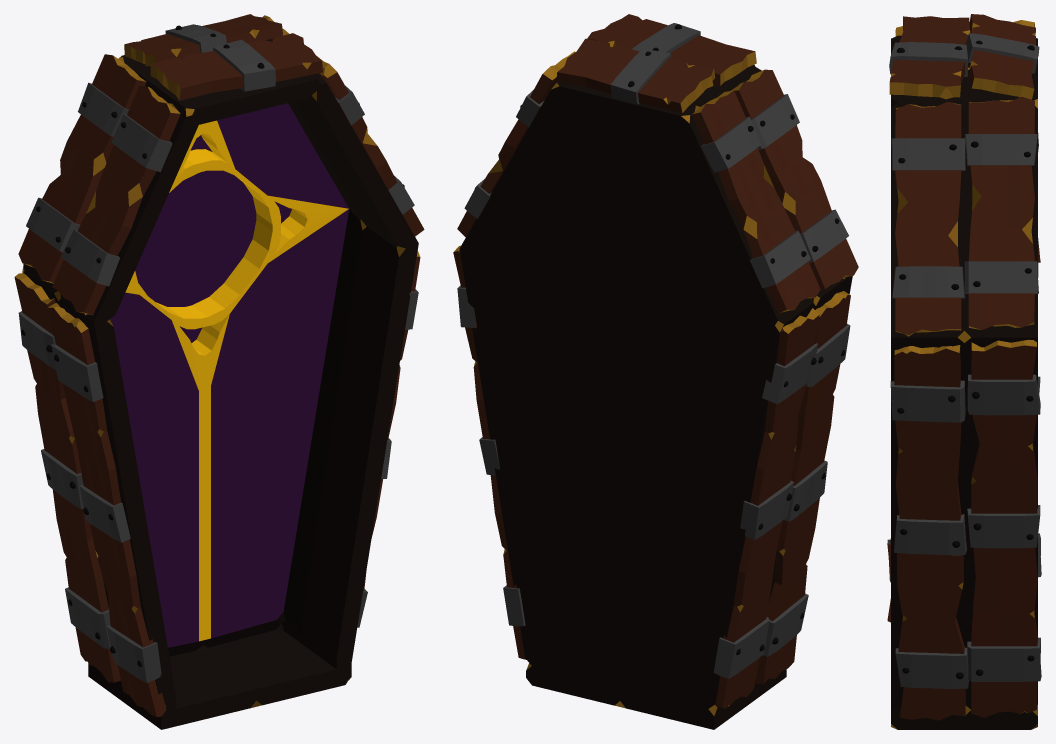
The model's file is Sarg_1_Korpus.obj.
The picture shows the model from 3 angles, left to right: view 1: azimuth 30°, elevation 25°; view 2: azimuth 150°, elevation 25°; view 3: azimuth 270°, elevation 25°; orthographic projection.
Parts seen in each view (by area): view 1: Body_1; view 2: Body_1; view 3: Body_1.
Part boxes in pixels (x1,y1,x2,y2): Body_1: [14, 14, 424, 729]; Body_1: [453, 14, 858, 729]; Body_1: [887, 14, 1041, 729].
Bounding box in the file's own units: 1.45 × 2.58 × 0.5601.
